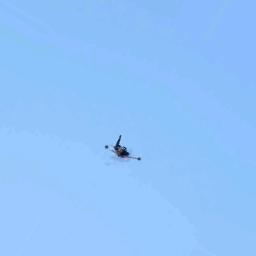Airplane: (103, 134, 142, 162)
